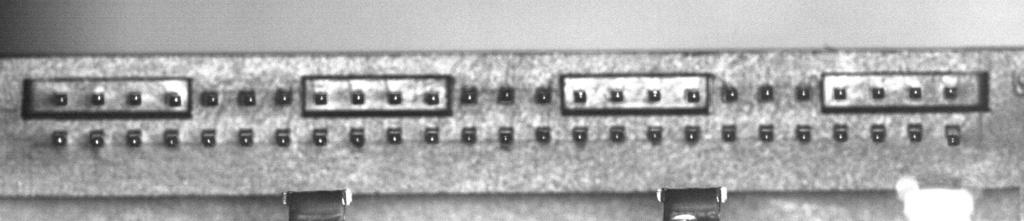pin_ok: (945, 124, 962, 145), (274, 87, 293, 105), (460, 85, 479, 103), (907, 123, 924, 142), (237, 89, 256, 106), (200, 128, 217, 147), (163, 128, 180, 147), (237, 128, 254, 146), (274, 128, 291, 146), (832, 124, 849, 142), (497, 85, 515, 102), (534, 86, 552, 103), (721, 85, 739, 102), (200, 90, 219, 106), (870, 123, 886, 142), (609, 125, 626, 142), (571, 126, 588, 143), (646, 125, 663, 142), (88, 130, 105, 147), (757, 84, 774, 101), (758, 123, 774, 141), (424, 126, 440, 144), (386, 126, 402, 144), (498, 127, 514, 145), (312, 128, 328, 146), (126, 129, 142, 147), (349, 128, 365, 146), (795, 85, 813, 101), (721, 124, 737, 141), (796, 125, 812, 142), (461, 126, 477, 143), (684, 125, 700, 142), (535, 126, 551, 143), (51, 130, 68, 146), (166, 91, 182, 107), (424, 90, 440, 105), (126, 91, 142, 106), (350, 89, 365, 104), (572, 88, 587, 103), (685, 88, 700, 103), (608, 88, 624, 102), (313, 91, 328, 105), (53, 92, 68, 106), (832, 86, 847, 100), (646, 88, 661, 102), (943, 85, 958, 99), (91, 90, 105, 105), (388, 90, 402, 104), (871, 86, 886, 99), (908, 86, 922, 99)
